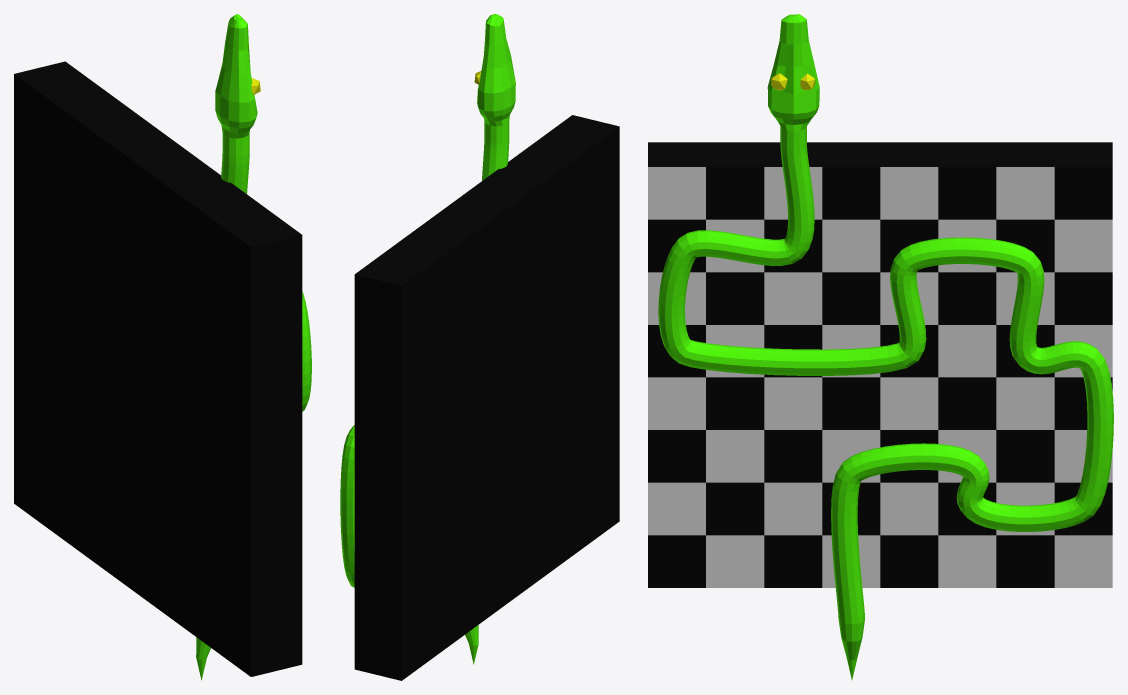
The model's file is ChessSnake.fbx.
3 views of the same model, side by side, from view 1: azimuth 30°, elevation 25°; view 2: azimuth 150°, elevation 25°; view 3: azimuth 270°, elevation 25° (orthographic). The views are drawn at different scales.
Visible parts, largest first — view 1: Cube, BezierCurve.001; view 2: Cube, BezierCurve.001; view 3: Cube, BezierCurve.001.
Boxes of the visible parts, x1,y1,x2,y2 form: Cube: (14,61,302,676); BezierCurve.001: (196,14,311,680); Cube: (354,115,619,680); BezierCurve.001: (340,14,515,664); Cube: (648,142,1112,587); BezierCurve.001: (658,14,1113,680).
Bounding box in the file's own units: 1605 × 299 × 2550.
